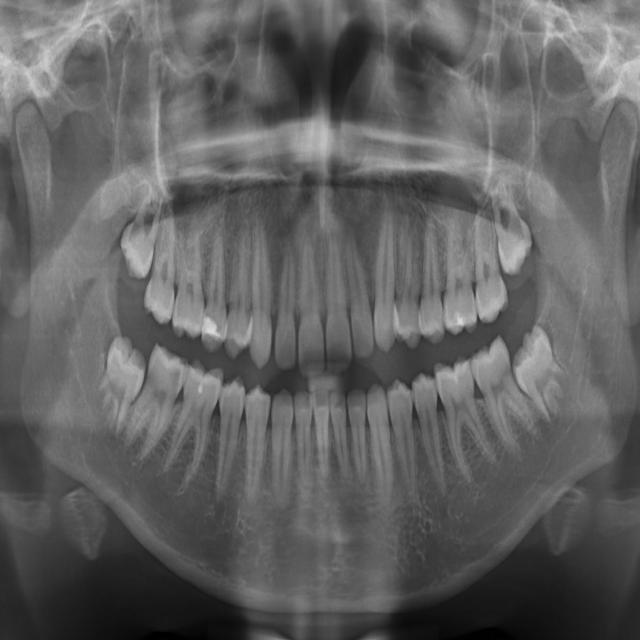CompositeResinRestoration: (205, 318, 219, 344), (457, 310, 469, 334), (195, 382, 205, 400)
